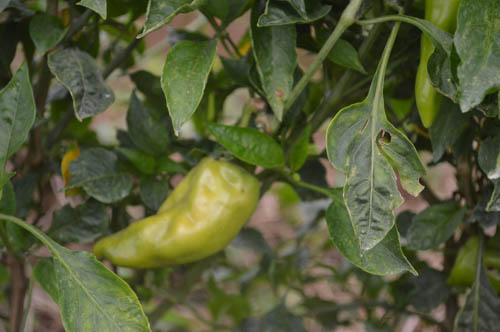ChiliPepper: (93, 158, 261, 264), (418, 2, 456, 129)
